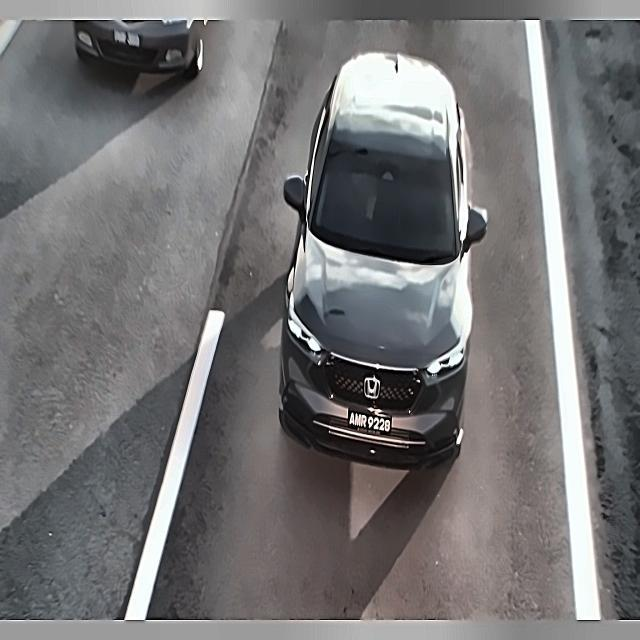car: (346, 406, 395, 443), (103, 24, 146, 56)
